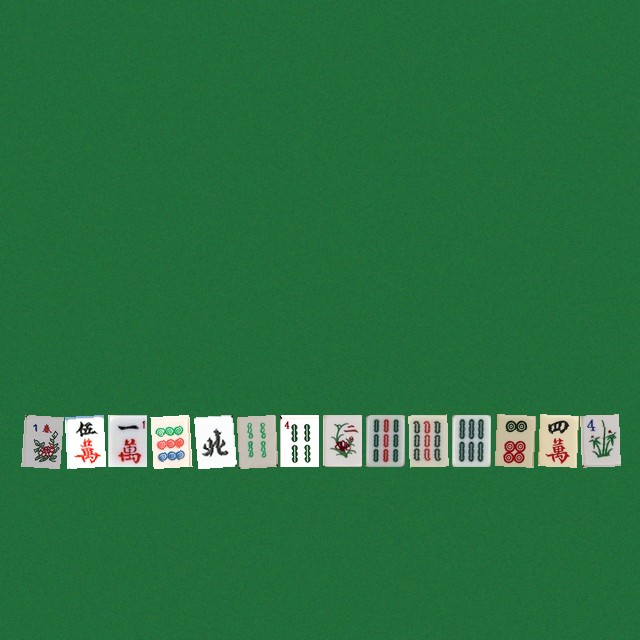tile: (21, 414, 60, 466), (64, 414, 103, 466), (107, 414, 146, 466), (150, 414, 189, 466), (193, 414, 232, 466), (236, 414, 275, 466), (279, 414, 318, 466), (322, 414, 361, 466), (365, 414, 404, 466), (408, 414, 447, 466), (451, 414, 490, 466), (494, 414, 533, 466), (537, 414, 576, 466), (580, 414, 619, 466)
